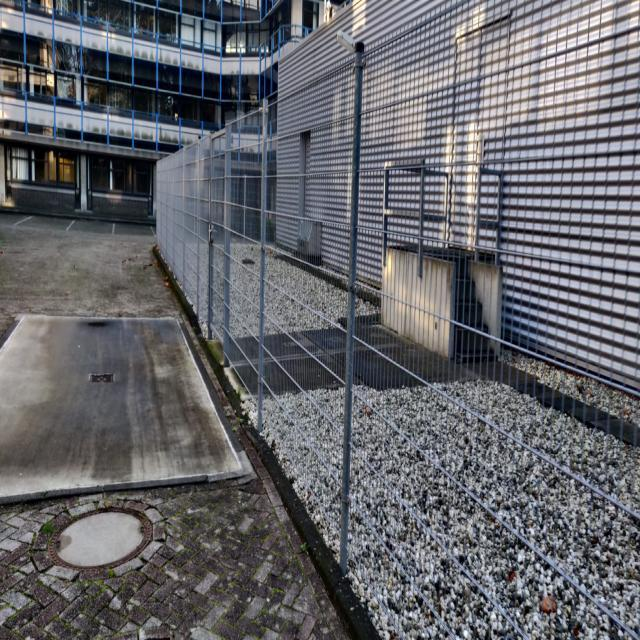fence line: (353, 0, 640, 640), (258, 84, 444, 640), (141, 141, 331, 430)
